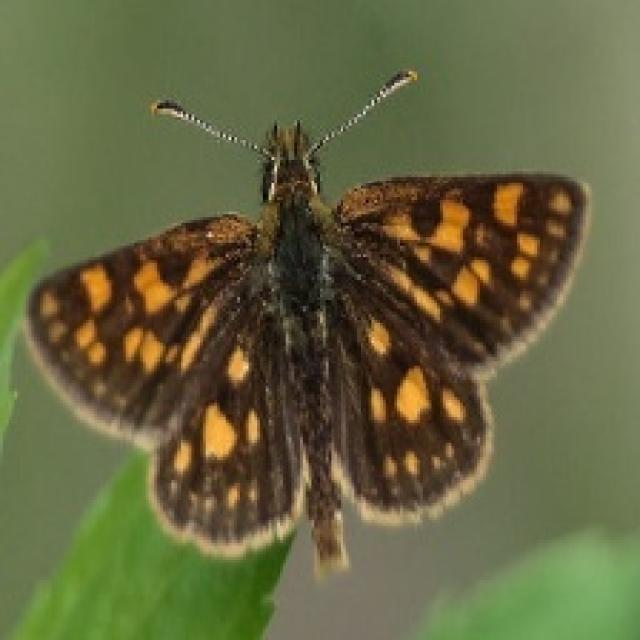butterfly: (20, 66, 591, 580)
